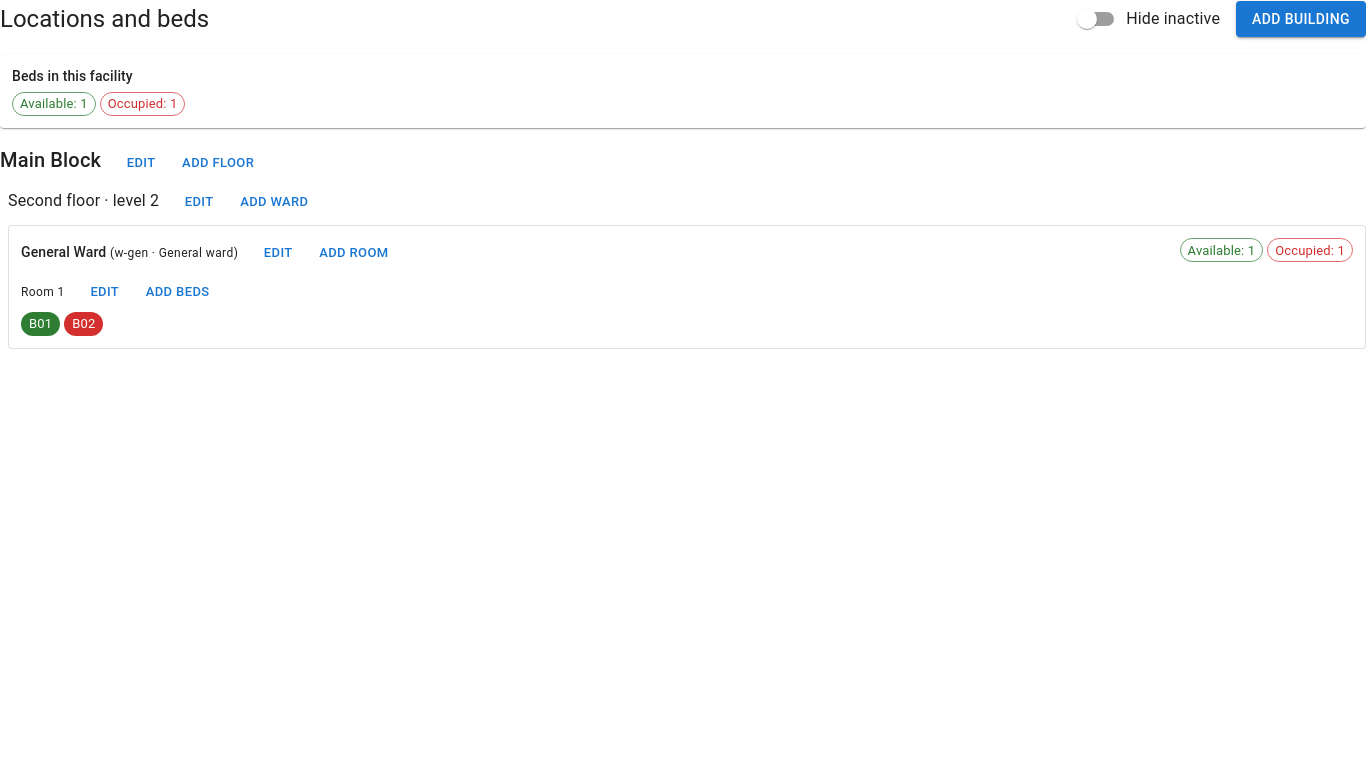
Scenario: LocationsPage › opens bed details from the status dialog for people who manage locations
Click the button named "Bed B01, Available" at (41, 324), box [21,312,60,336]
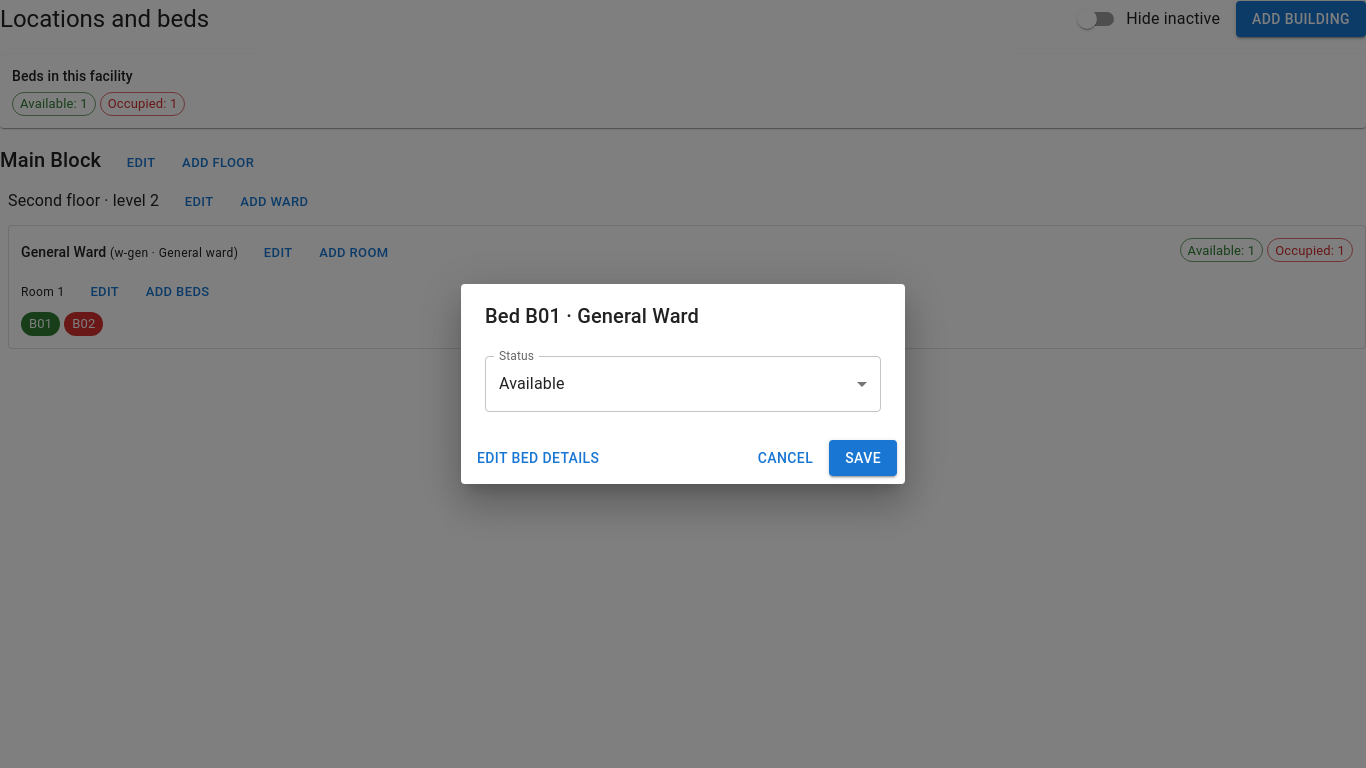
Click the button "Edit bed details" at (538, 458), box [469,440,607,476]
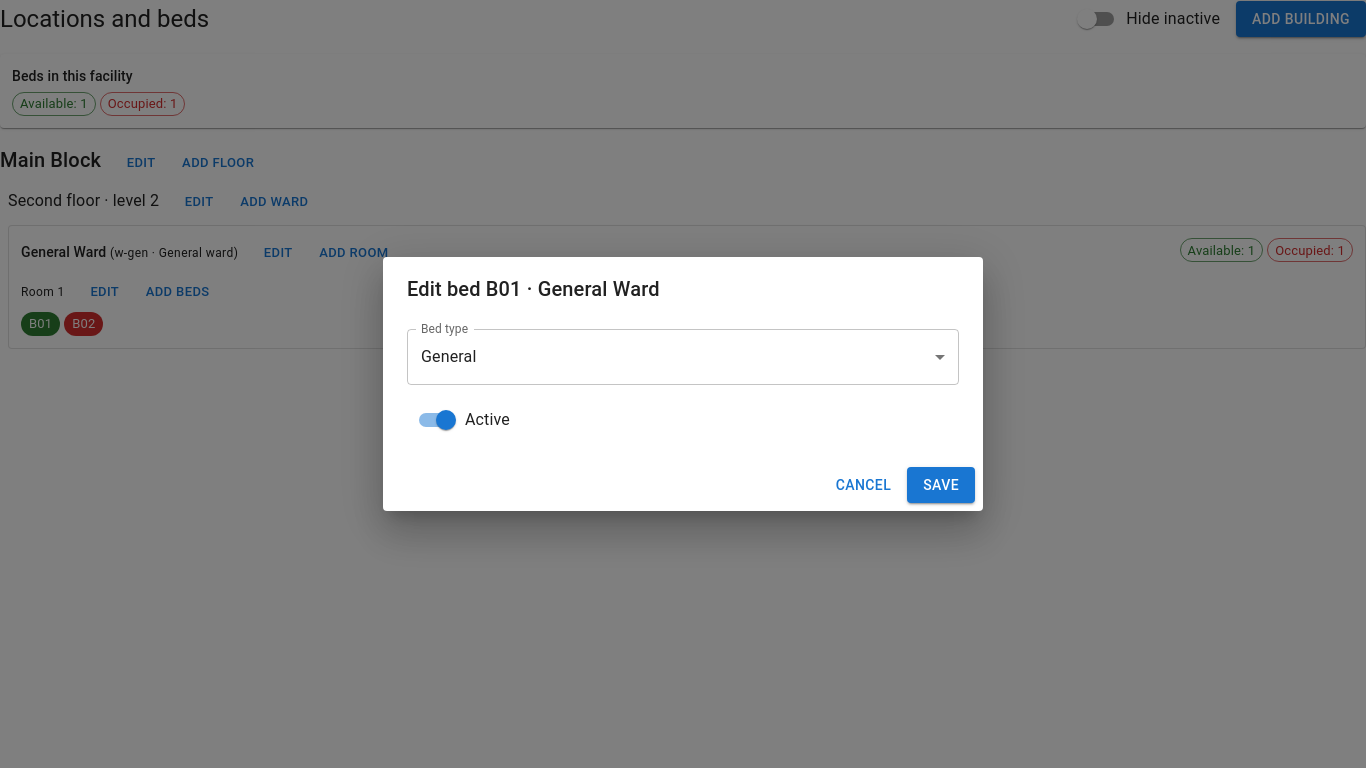
Check: the heading "Edit bed B01 · General Ward" is shown, box [407,277,660,301]
Check: the dropdown named "Bed type" is shown, box [421,347,476,366]
